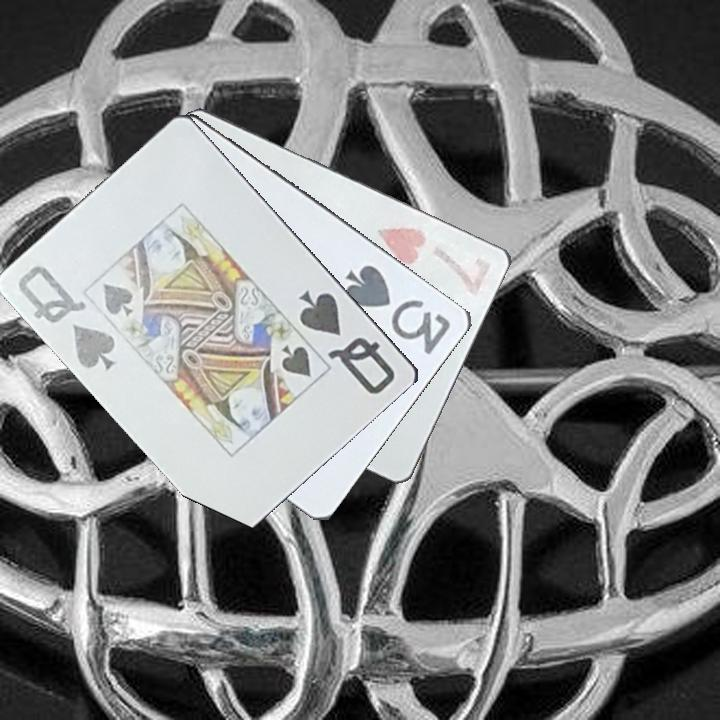3s: (341, 261, 455, 358)
7h: (374, 223, 495, 300)
Qs: (15, 261, 121, 374), (295, 286, 399, 398)
